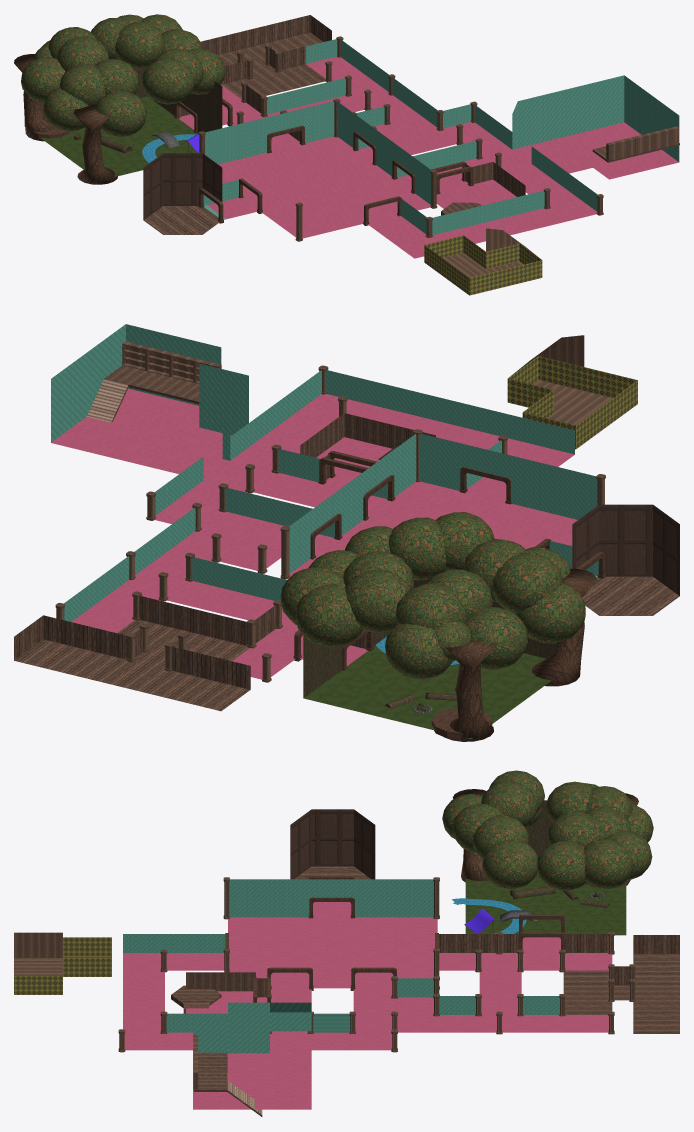
Rendered from living room.glb.
The picture shows the model from 3 angles, top to bottom: view 1: azimuth 30°, elevation 25°; view 2: azimuth 150°, elevation 25°; view 3: azimuth 270°, elevation 25°; orthographic projection. The views are drawn at different scales.
Parts seen in each view (by area): view 1: Main-col, Cube.037, Plane, Roundcube.013, Trunk-col.001, Roundcube.006, Roundcube.011, Roundcube.002, Cube, Roundcube.007, Roundcube.009, Roundcube.004 (+8 smaller); view 2: Main-col, Cube.037, Plane, Roundcube.014, Roundcube.007, Trunk-col, Roundcube.010, Stairs-col, Roundcube.005, Roundcube.009, Roundcube.002, Roundcube.012 (+12 smaller); view 3: Main-col, Cube.037, Plane, Roundcube.017, Roundcube.015, Roundcube.016, Roundcube.008, Stairs-col, Roundcube.012, Roundcube.011, Roundcube.004, Roundcube.013 (+9 smaller).
Part boxes in pixels (x1=…): Main-col: x1=24, y1=15, x2=679, y2=258; Cube.037: x1=174, y1=36, x2=603, y2=241; Plane: x1=424, y1=228, x2=542, y2=295; Roundcube.013: x1=142, y1=58, x2=194, y2=104; Trunk-col.001: x1=73, y1=104, x2=117, y2=184; Roundcube.006: x1=95, y1=91, x2=146, y2=137; Roundcube.011: x1=115, y1=22, x2=164, y2=68; Roundcube.002: x1=21, y1=57, x2=65, y2=103; Cube: x1=606, y1=126, x2=679, y2=160; Roundcube.007: x1=59, y1=64, x2=105, y2=105; Roundcube.009: x1=43, y1=87, x2=88, y2=131; Roundcube.004: x1=57, y1=36, x2=109, y2=71; Main-col: x1=14, y1=324, x2=679, y2=739; Cube.037: x1=55, y1=365, x2=605, y2=682; Plane: x1=507, y1=335, x2=637, y2=449; Roundcube.014: x1=295, y1=584, x2=362, y2=647; Roundcube.007: x1=492, y1=552, x2=562, y2=613; Trunk-col: x1=444, y1=640, x2=496, y2=741; Roundcube.010: x1=345, y1=569, x2=410, y2=632; Stairs-col: x1=87, y1=365, x2=199, y2=422; Roundcube.005: x1=385, y1=623, x2=452, y2=679; Roundcube.009: x1=515, y1=583, x2=585, y2=643; Roundcube.002: x1=464, y1=606, x2=527, y2=669; Roundcube.012: x1=388, y1=517, x2=446, y2=580; Main-col: x1=123, y1=800, x2=679, y2=1109; Cube.037: x1=118, y1=876, x2=635, y2=1052; Plane: x1=14, y1=932, x2=111, y2=994; Roundcube.017: x1=482, y1=839, x2=538, y2=889; Roundcube.015: x1=583, y1=839, x2=633, y2=888; Roundcube.016: x1=537, y1=840, x2=586, y2=891; Roundcube.008: x1=481, y1=781, x2=537, y2=826; Stairs-col: x1=194, y1=1052, x2=262, y2=1116; Roundcube.012: x1=472, y1=815, x2=529, y2=859; Roundcube.011: x1=547, y1=811, x2=600, y2=847; Roundcube.004: x1=546, y1=781, x2=593, y2=822; Roundcube.013: x1=452, y1=803, x2=504, y2=852.
Size of the model in its own units: 86.42 by 17.57 by 95.25.
Materials: 17 (16 with a texture image).
